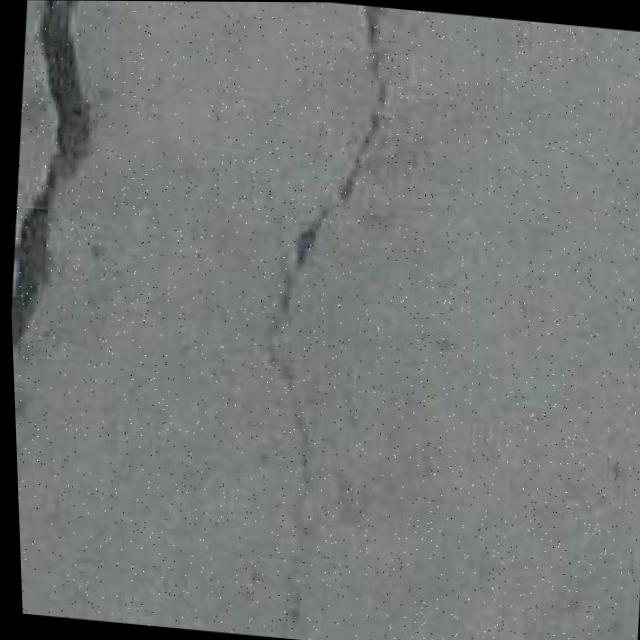Crack: (215, 1, 407, 539), (0, 0, 126, 401)
